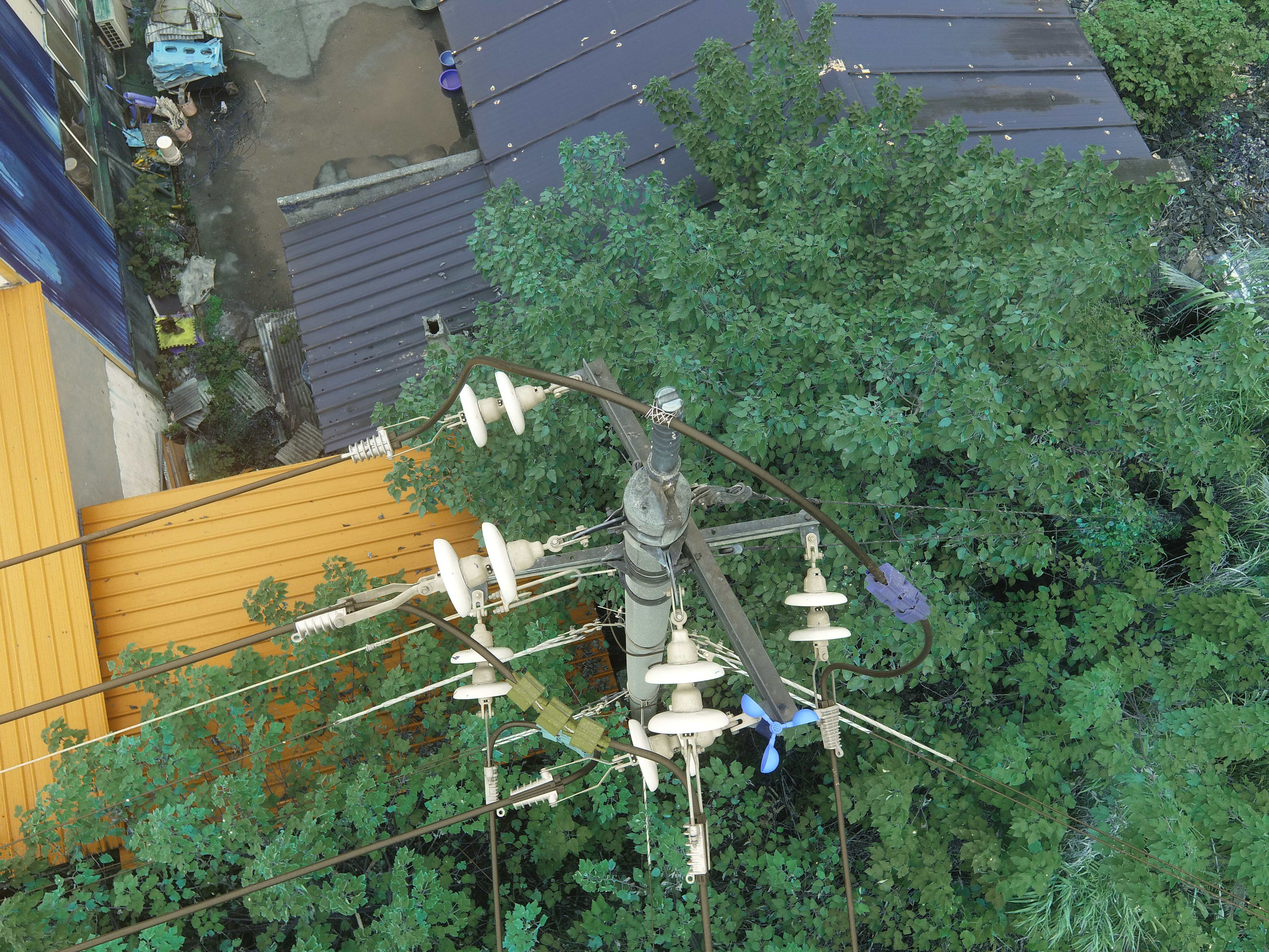severe_soiling_no_discharge_whole: (646, 387, 688, 483)
